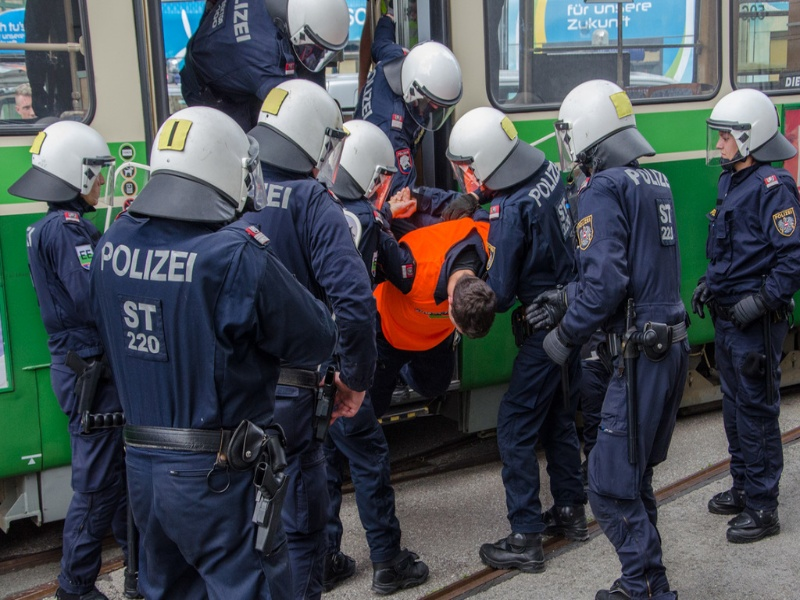Baret: (148, 105, 257, 203), (263, 78, 340, 155), (32, 120, 115, 182), (557, 80, 637, 138), (446, 106, 519, 162), (403, 41, 462, 103), (712, 88, 771, 134)
